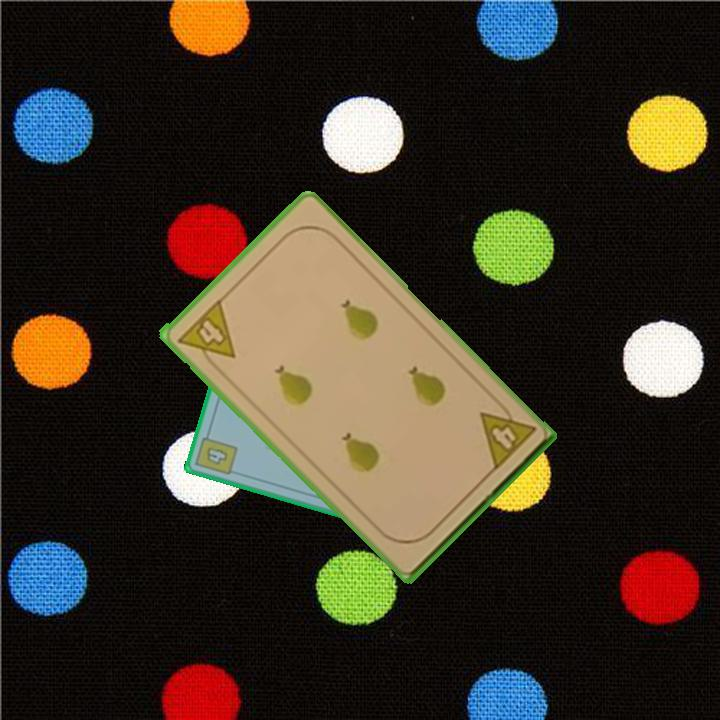4b: (192, 428, 240, 478)
4p: (173, 295, 238, 375), (475, 395, 539, 474)
